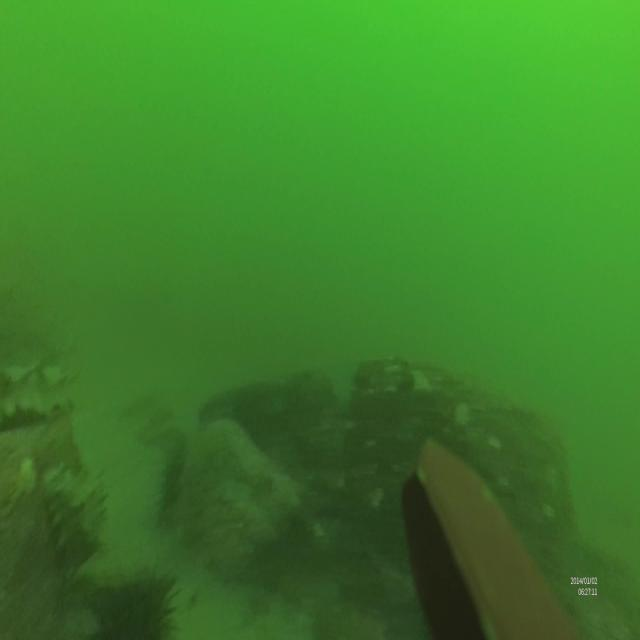echinus: (92, 563, 184, 640)
holothurian: (39, 468, 101, 566)
